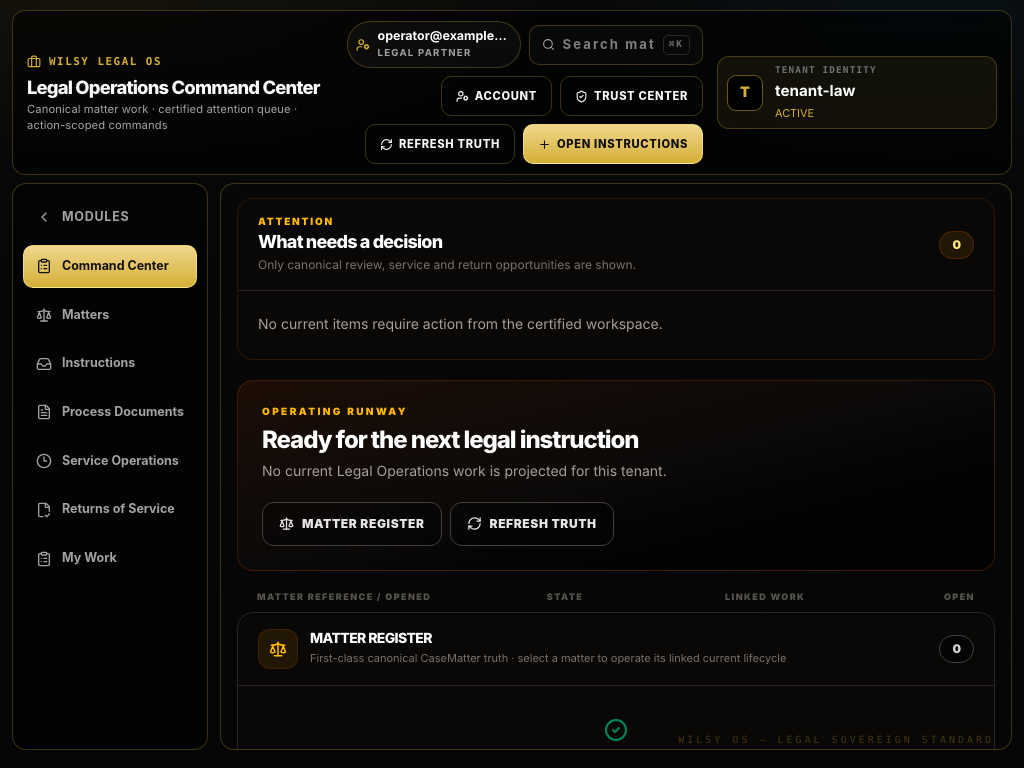
Test: PW-P11C canonical Legal dashboard productive work › searches the compact queue without changing authoritative work
Click the button "My Work" at (110, 558), box 23,537 -> 197,580
(page scrolled)
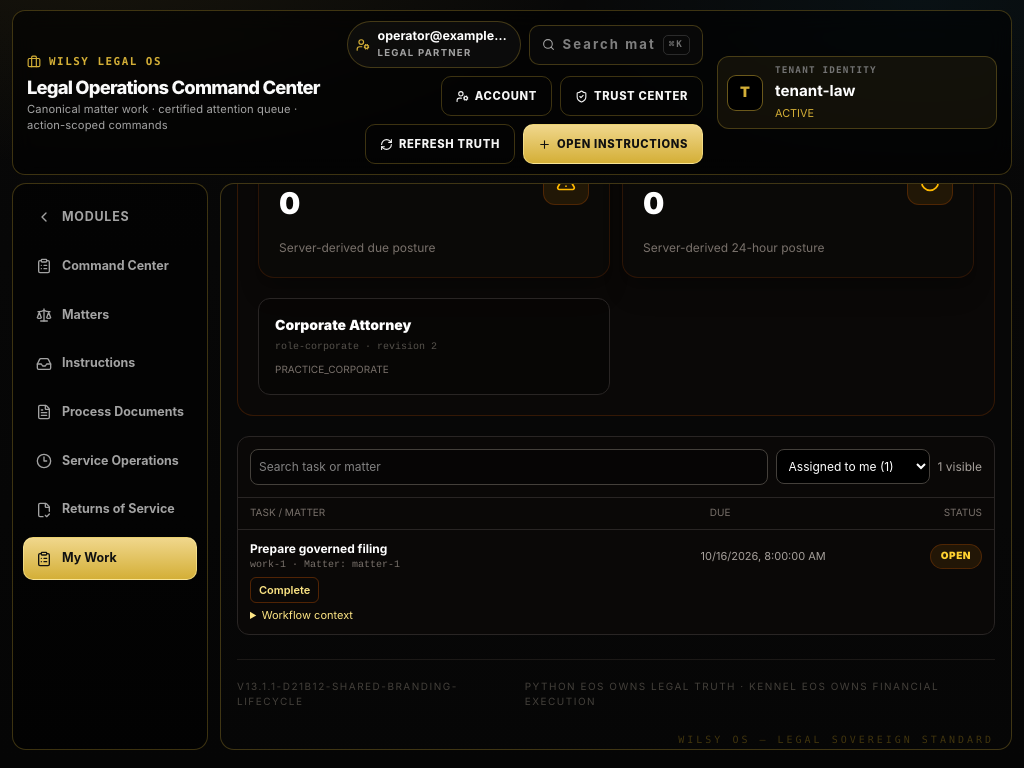
Now the text "Prepare governed filing" is shown, box 250,540 -> 387,556
Now the element named "Compact legal work queue" is shown, box 237,436 -> 995,634
Type "absent-matter" into the search field named "Search legal work" at (509, 466), box 250,448 -> 768,484
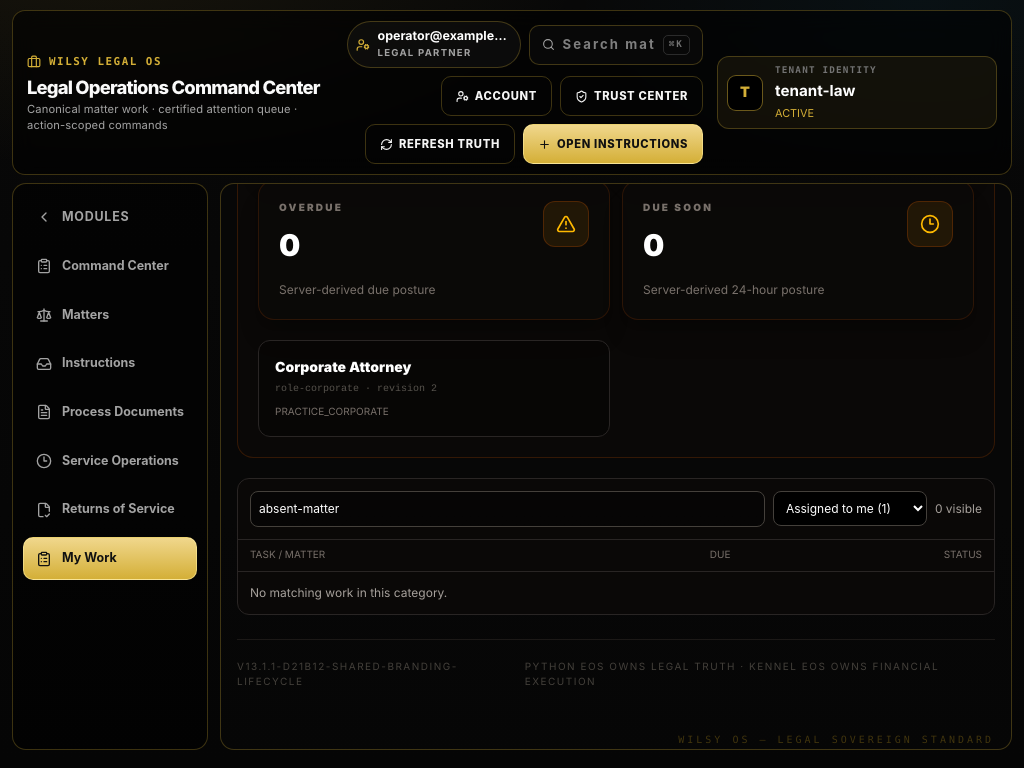
Now the text "No matching work in this category." is shown, box 250,584 -> 447,600
Replace the text in the search field named "Search legal work" with "matter-1" at (507, 508), box 250,490 -> 765,526
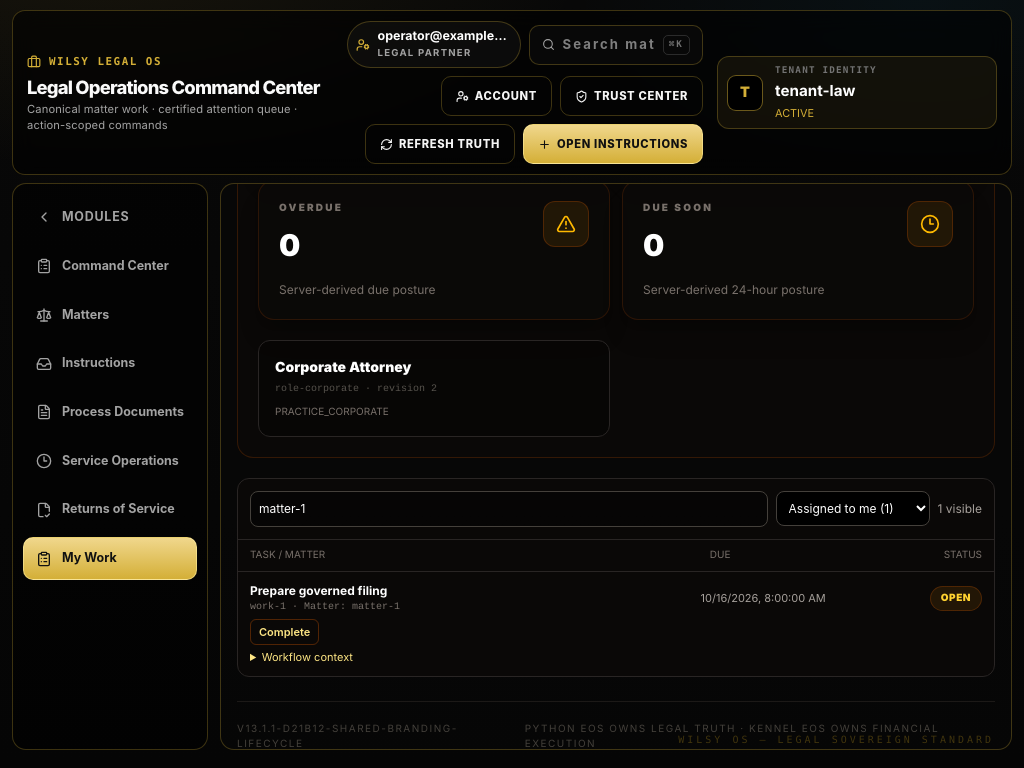
Now the text "Prepare governed filing" is shown, box 250,582 -> 387,598
